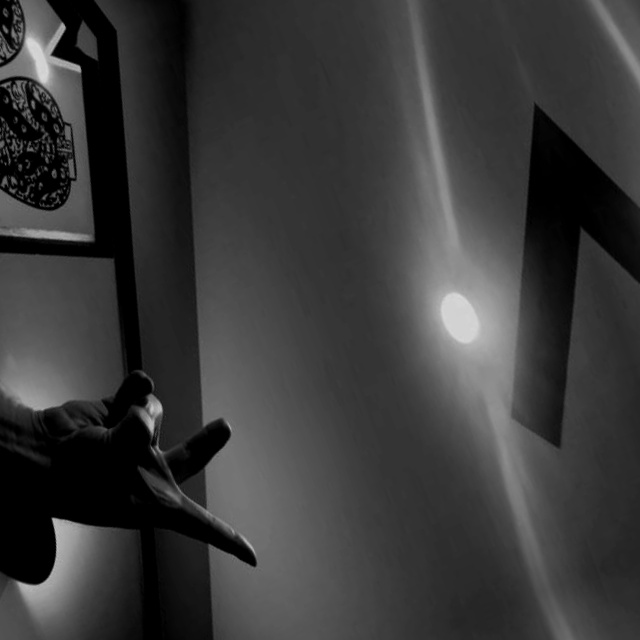Scissors: (24, 345, 280, 625)
